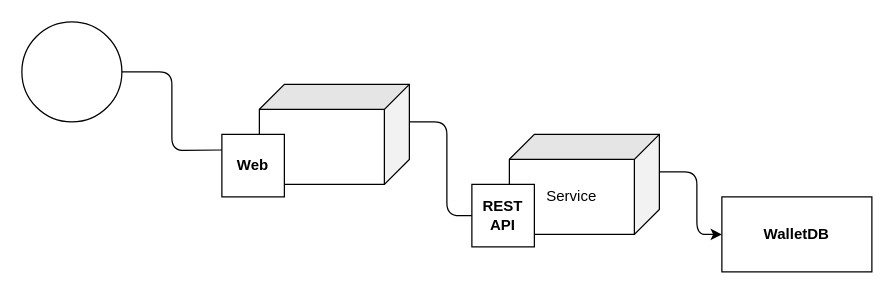
Image size: 894x294. Some labels were removed from this diagram. The centre of each missing label's shape, as x and y in pixels:
"Browser" belongs at pixel 71 71.
"WalletApp" belongs at pixel 333 133.
